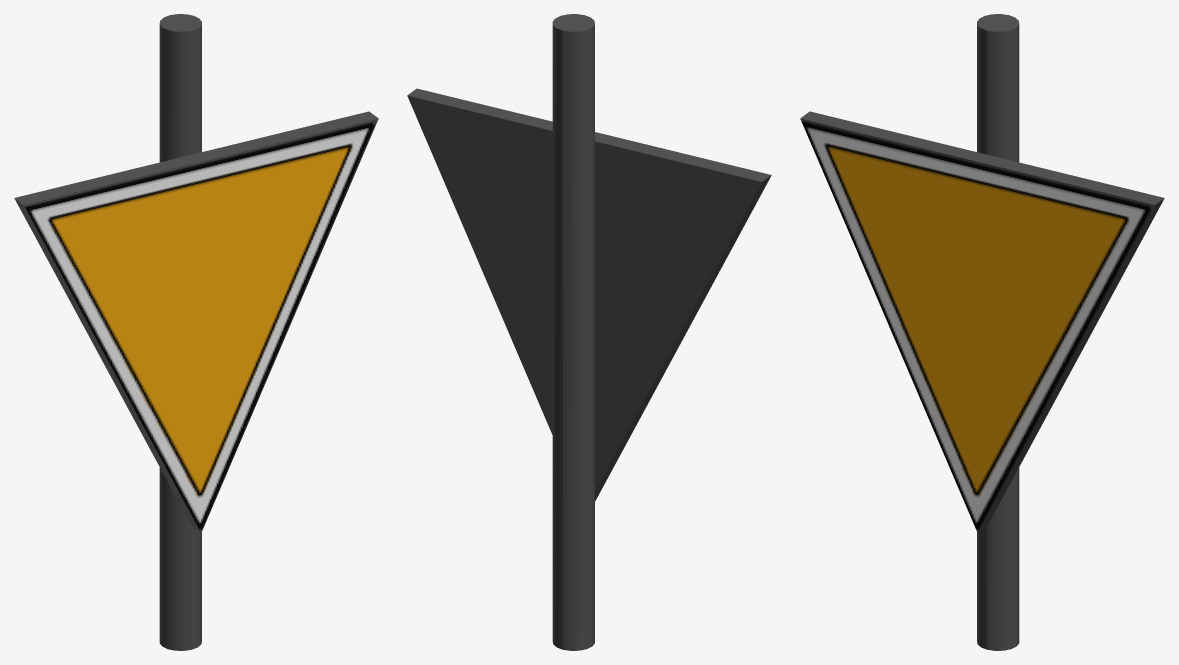
File: SignalLF6.obj
3 renders of one model, left to right at view 1: azimuth 30°, elevation 25°; view 2: azimuth 150°, elevation 25°; view 3: azimuth 330°, elevation 25°, orthographic.
Visible parts, largest first — view 1: Cube.001_Cube.002, Cube_Cube.003; view 2: Cube.001_Cube.002, Cube_Cube.003; view 3: Cube.001_Cube.002, Cube_Cube.003.
Part boxes in pixels (x1=…): Cube.001_Cube.002: x1=14, y1=111, x2=378, y2=532; Cube_Cube.003: x1=159, y1=14, x2=201, y2=650; Cube.001_Cube.002: x1=407, y1=88, x2=771, y2=501; Cube_Cube.003: x1=552, y1=14, x2=594, y2=650; Cube.001_Cube.002: x1=800, y1=111, x2=1164, y2=532; Cube_Cube.003: x1=977, y1=14, x2=1019, y2=650.
Size of the model in its own units: 0.6 by 1 by 0.0912.
Materials: 1 (1 with a texture image).
